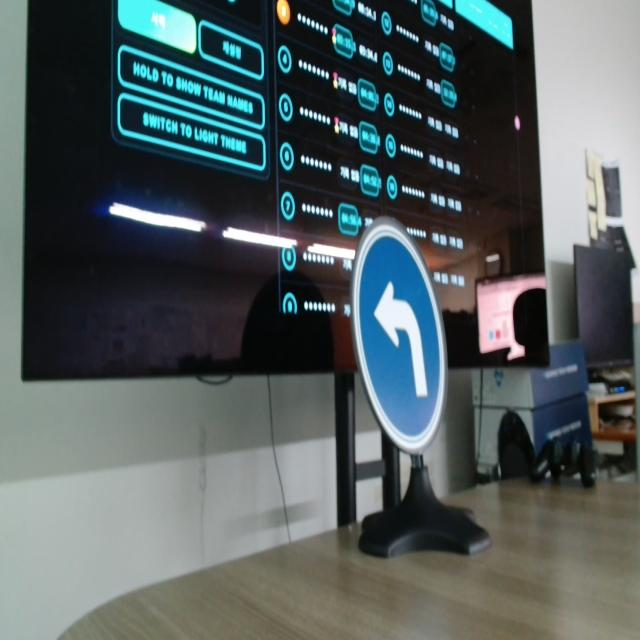left_direction: (350, 212, 451, 462)
